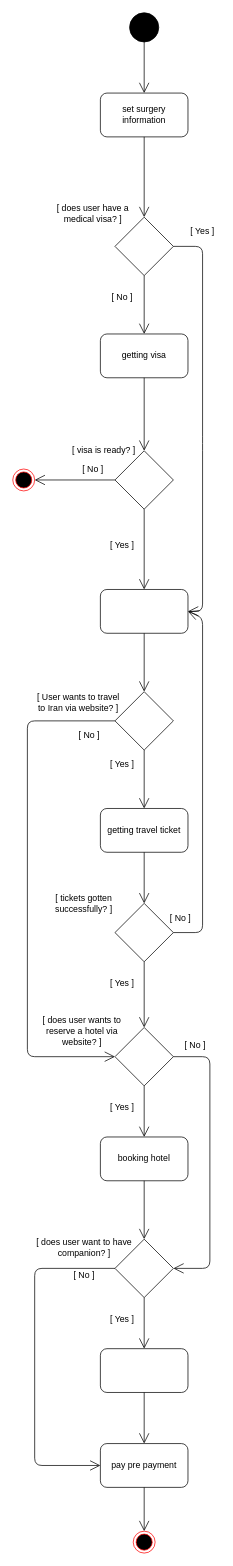
Image size: 233x1566. Some labels were removed from this diagram. The box of each missing label's shape, as (x1, y1, x2, y2) in pixels:
companion: (100, 1348, 188, 1392)
make an appointment and set surgery time with respect to doctor's work plan: (100, 589, 188, 633)
